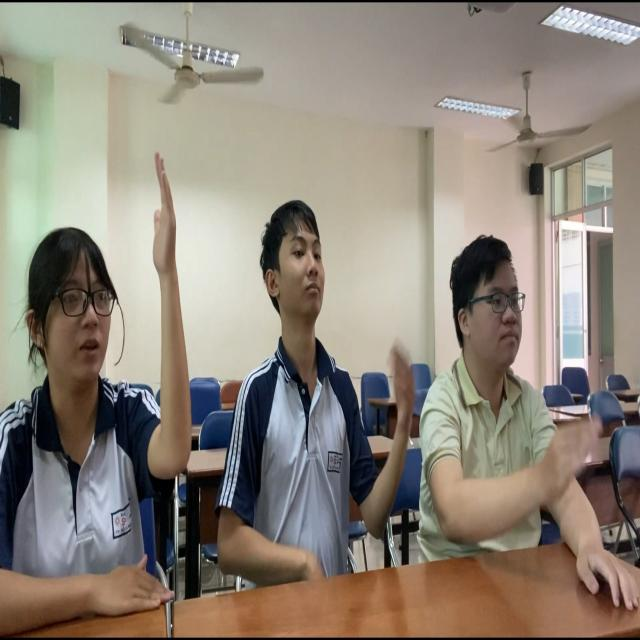raise_hand: (1, 138, 195, 635)
